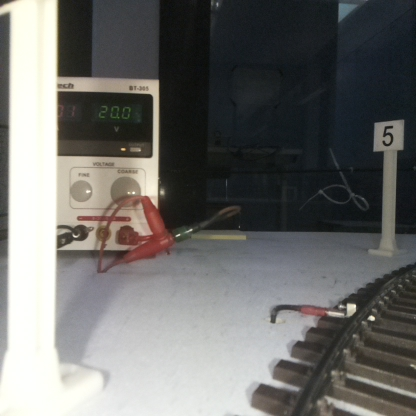white-info-5: (374, 120, 403, 253)
